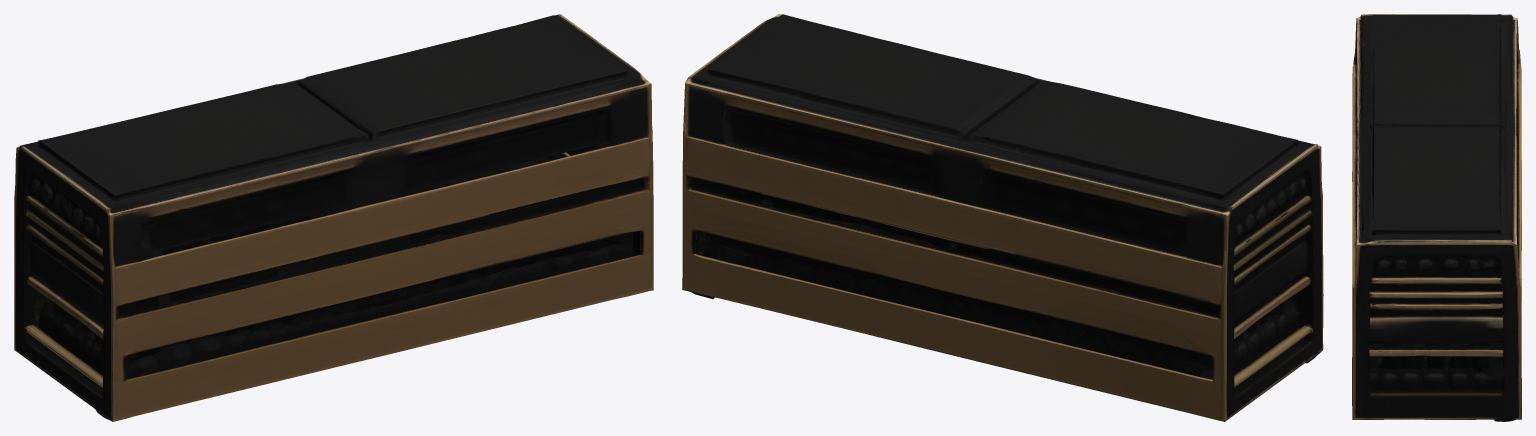
Rendered from 8c4a5b6c-8ebd-4ff4-9be5-66e6bce06033.glb.
3 views of the same model, side by side, from view 1: azimuth 30°, elevation 25°; view 2: azimuth 150°, elevation 25°; view 3: azimuth 270°, elevation 25° (orthographic). The views are drawn at different scales.
Parts seen in each view (by area): view 1: world; view 2: world; view 3: world.
Boxes of the visible parts, x1=… form: world: x1=14, y1=14, x2=653, y2=421; world: x1=682, y1=14, x2=1323, y2=421; world: x1=1352, y1=14, x2=1521, y2=421.
Size of the model in its own units: 1 by 0.3868 by 0.3171.
1 material, 1 textured.
